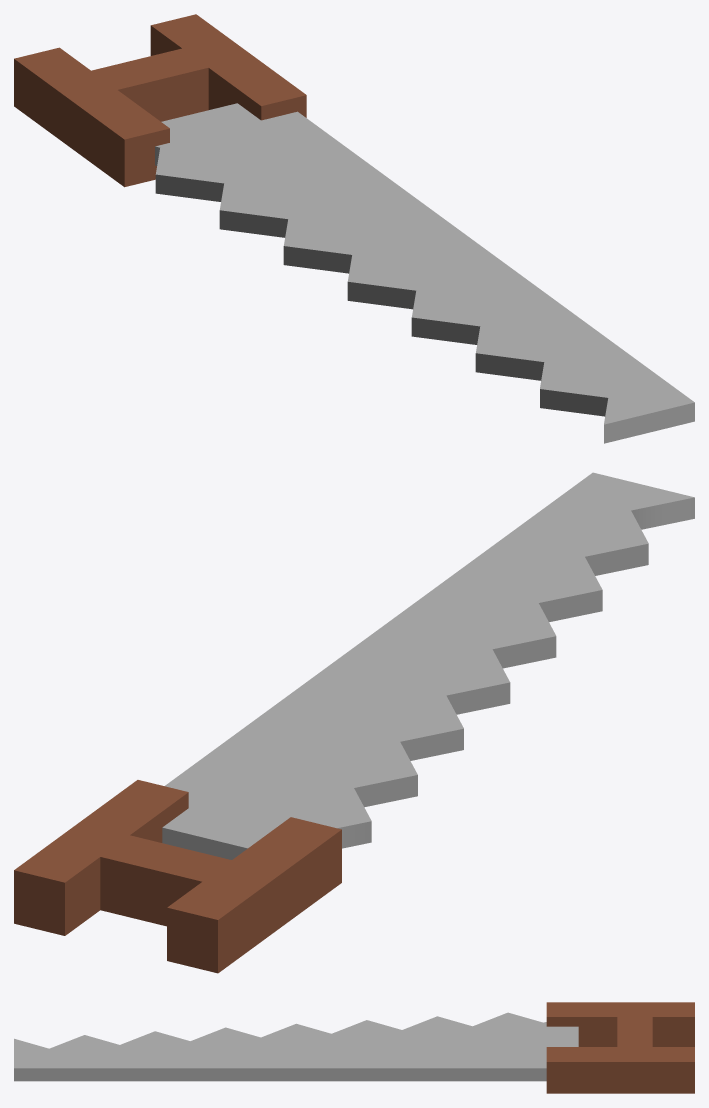
Rendered from Saw.fbx.
The picture shows the model from 3 angles, top to bottom: view 1: azimuth 30°, elevation 25°; view 2: azimuth 150°, elevation 25°; view 3: azimuth 270°, elevation 25°; orthographic projection. The views are drawn at different scales.
Parts seen in each view (by area): view 1: Saw; view 2: Saw; view 3: Saw.
Part boxes in pixels (left/top/right/bottom): Saw: left=14, top=14, right=694, bottom=443; Saw: left=14, top=472, right=694, bottom=973; Saw: left=14, top=1002, right=694, bottom=1093.
Size of the model in its own units: 0.06 by 0.015 by 0.2895.
